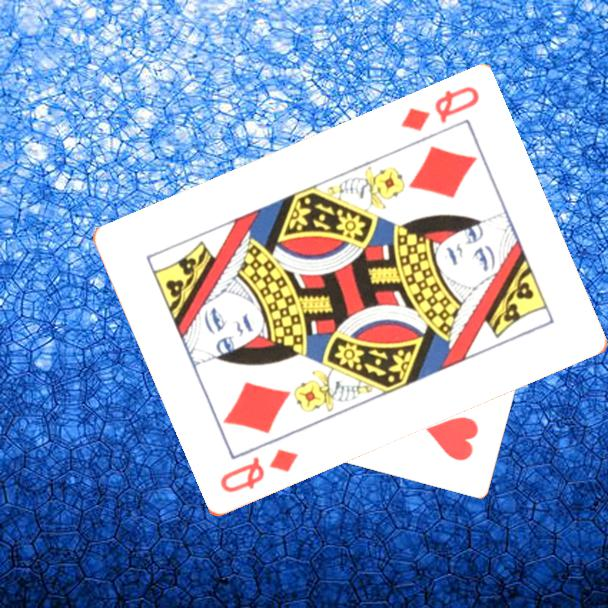d12: (397, 83, 482, 136), (216, 445, 301, 497)
